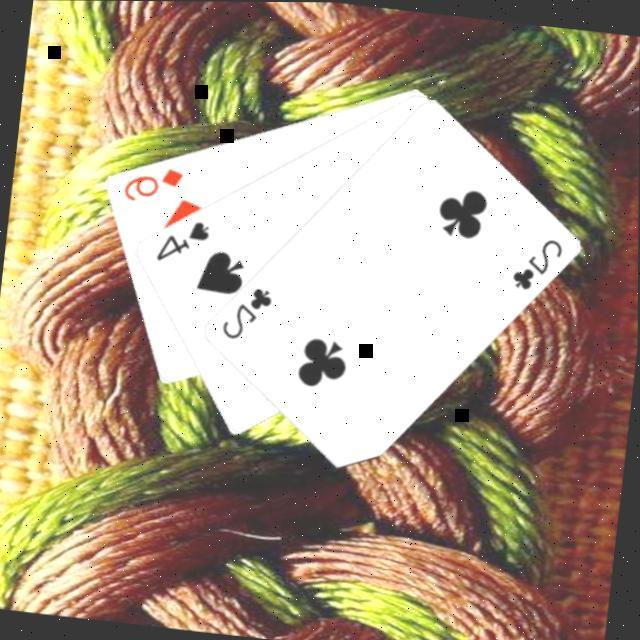2C: (214, 278, 274, 344), (504, 229, 564, 294)
4S: (149, 210, 212, 266)
6D: (116, 158, 184, 207)
